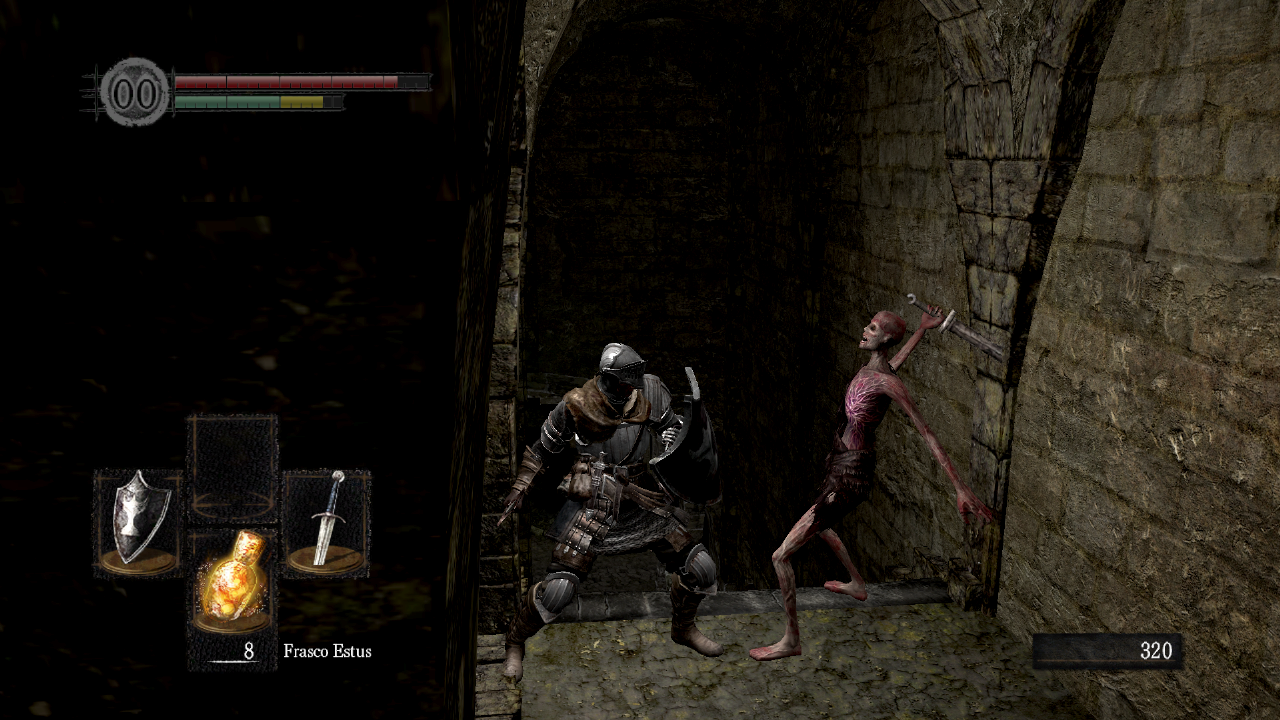hollow: (749, 293, 1005, 662)
player: (496, 342, 725, 676)
